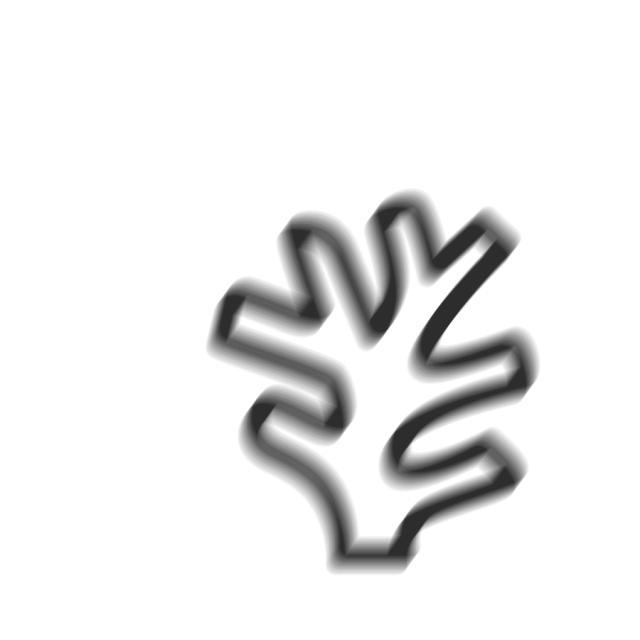coral: (199, 186, 550, 586)
